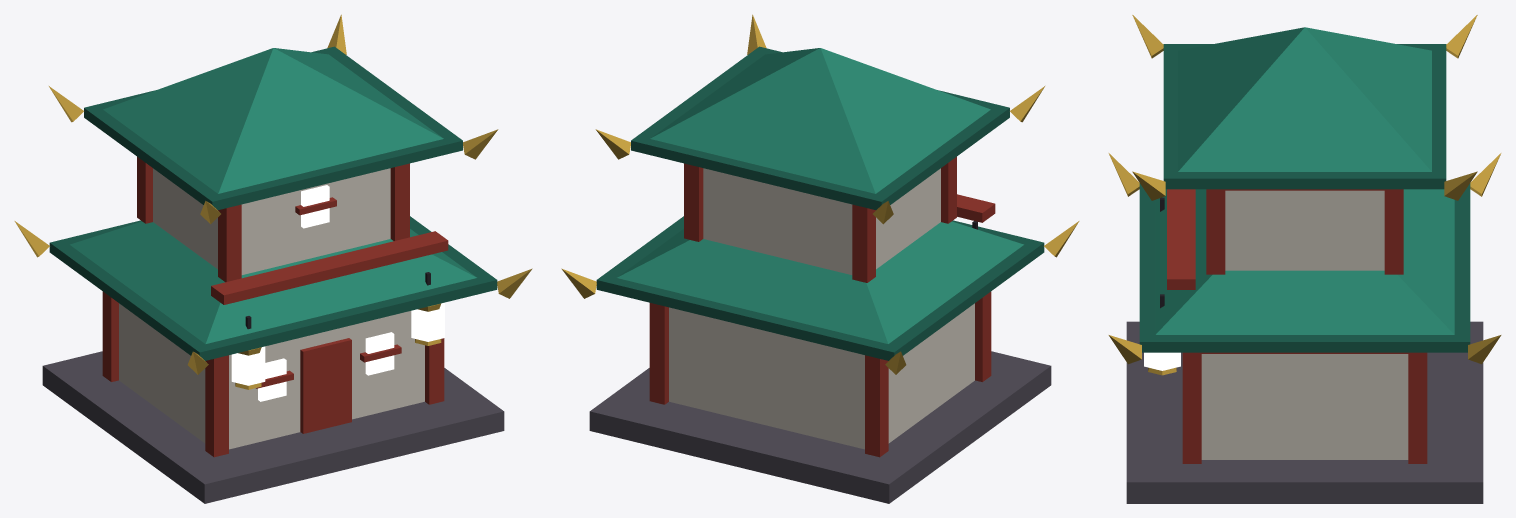
File: house_t2.glb
3 views of the same model, side by side, from view 1: azimuth 30°, elevation 25°; view 2: azimuth 150°, elevation 25°; view 3: azimuth 270°, elevation 25° (orthographic). The views are drawn at different scales.
Parts seen in each view (by area): view 1: body, glow; view 2: body; view 3: body, glow.
Part boxes in pixels (x1,y1,x2,y2): body: (14,14,532,503); glow: (231,185,444,401); body: (561,14,1079,503); body: (1108,15,1501,503); glow: (1144,352,1180,370).
Size of the model in its own units: 1.82 by 1.84 by 1.66.
